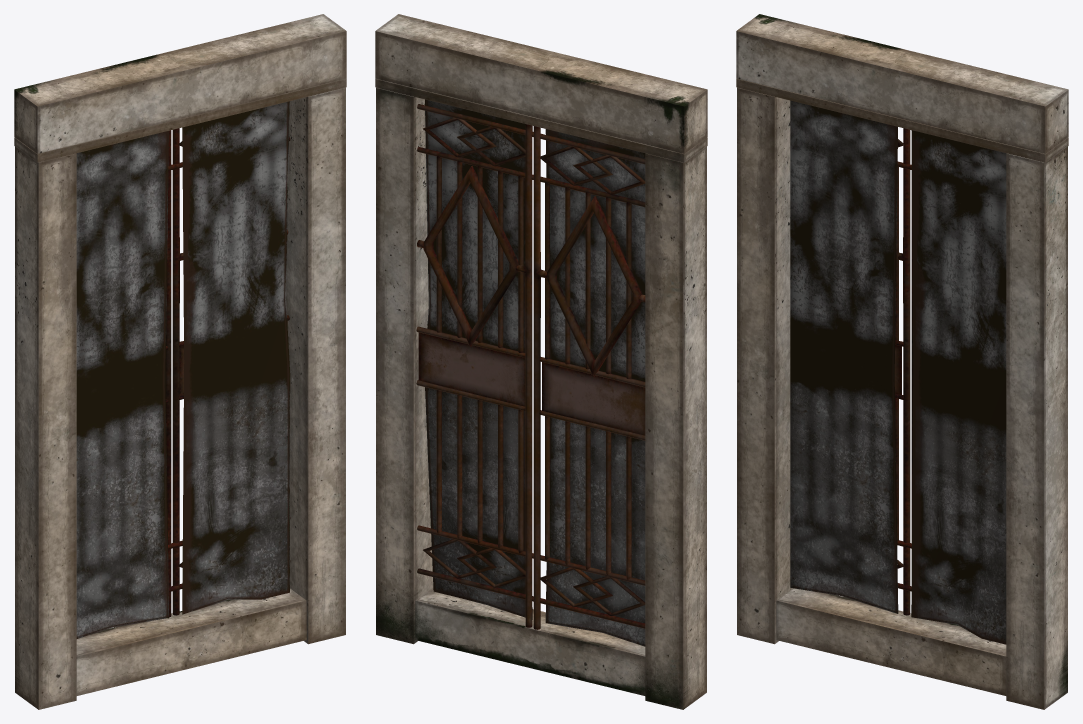
The model's file is Door_Stone.glb.
3 renders of one model, left to right at view 1: azimuth 30°, elevation 25°; view 2: azimuth 150°, elevation 25°; view 3: azimuth 330°, elevation 25°, orthographic.
Parts seen in each view (by area): view 1: Box004; view 2: Box004; view 3: Box004.
Part boxes in pixels (x1,y1,x2,y2): Box004: (14, 14, 346, 709); Box004: (375, 14, 707, 709); Box004: (736, 14, 1068, 709).
Size of the model in its own units: 1.34 by 2.51 by 0.1784.
1 material, 1 textured.
